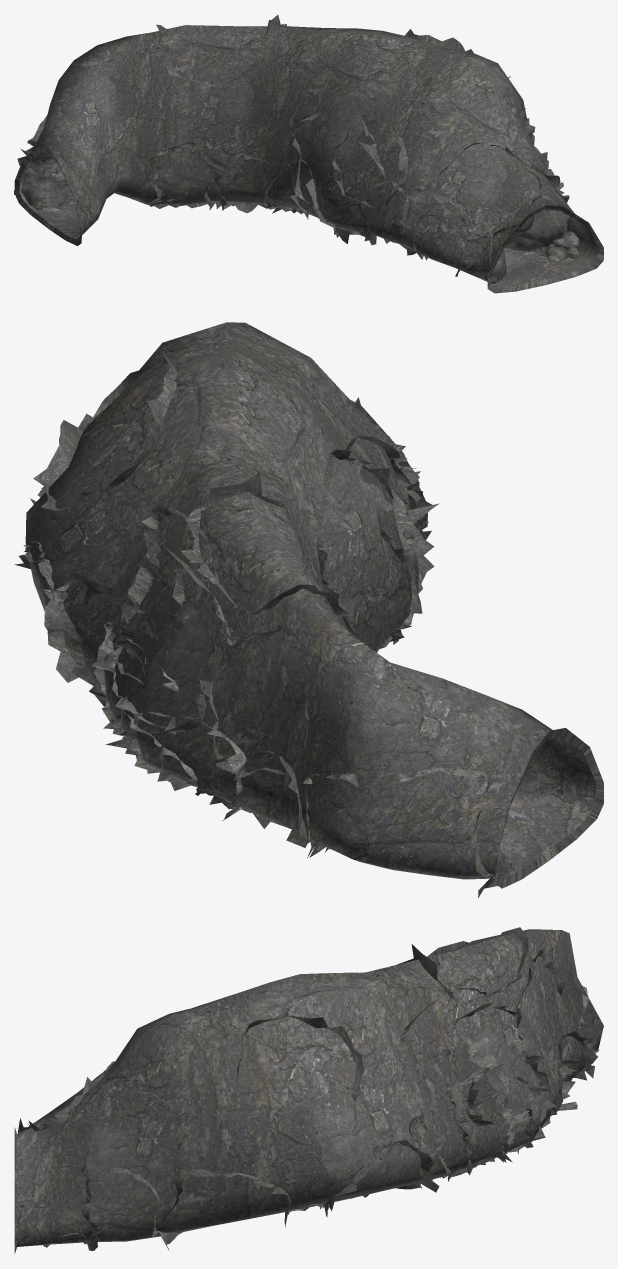
File: corner03.dae
3 renders of one model, top to bottom at view 1: azimuth 30°, elevation 25°; view 2: azimuth 150°, elevation 25°; view 3: azimuth 270°, elevation 25°, orthographic. The views are drawn at different scales.
Parts seen in each view (by area): view 1: CaveWall, StriatedRock, RockPile; view 2: CaveWall, StriatedRock; view 3: CaveWall, StriatedRock.
Part boxes in pixels (x1,y1,x2,y2): CaveWall: (14,15,603,293); StriatedRock: (14,24,286,212); RockPile: (149,153,579,261); CaveWall: (15,322,603,888); StriatedRock: (53,505,512,897); CaveWall: (14,927,603,1253); StriatedRock: (400,986,599,1181).
Size of the model in its own units: 3180 by 3306 by 1417.
